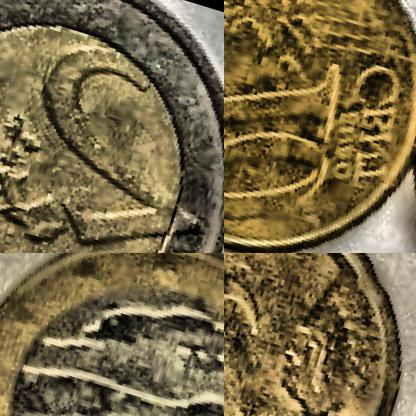coin: (0, 0, 223, 252), (224, 0, 415, 252), (0, 253, 223, 415), (224, 253, 415, 415)
